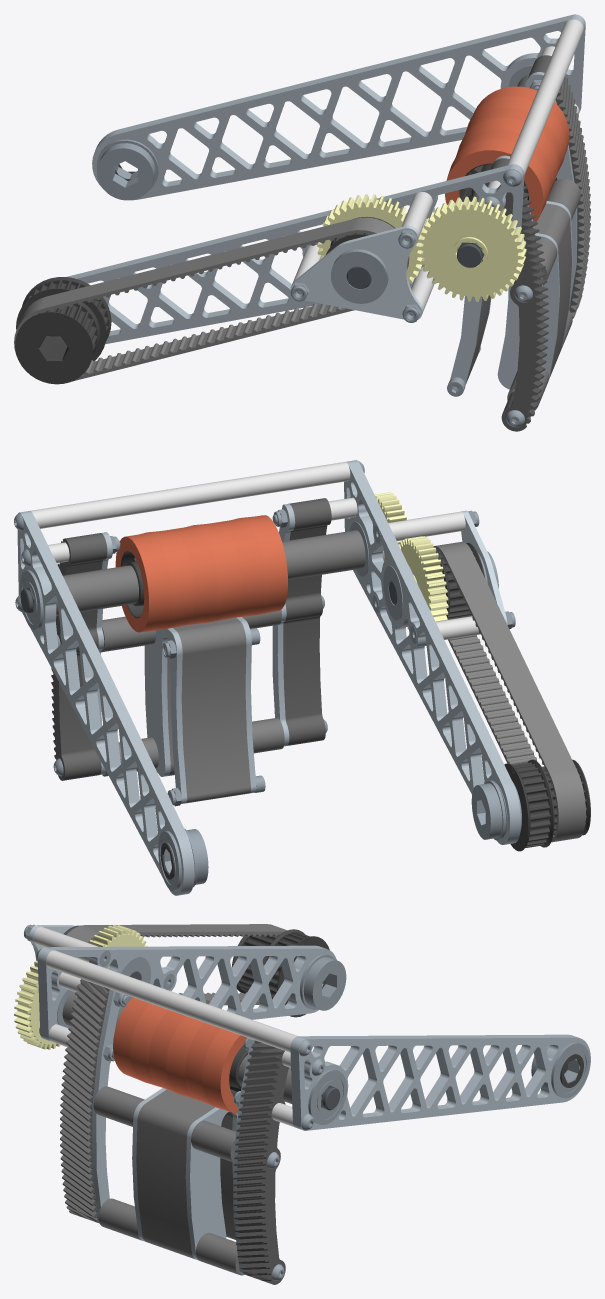
3 renders of one model, top to bottom at view 1: azimuth 30°, elevation 25°; view 2: azimuth 150°, elevation 25°; view 3: azimuth 270°, elevation 25°, orthographic. The views are drawn at different scales.
Visible parts, largest first — view 1: 0143_Right Hood Plate, 0105_Left Hood Plate, 40t 20dp Aluminum 1/2" Hex Bore Gear (217-2708) (×2), 90T HTD Belt, 2" OD 1/2" Hex ID Stealth Wheel 40A (am-3155) (×3), 0108_Hood Sector Gear Left, 24T Custom Pulley, 0137_Invert Gear Plate, 0121_Hood Block Support Plate, 0113_Hood Sector Gear Right, 0131_Hood Tierod, 0120_Hood Middle Block (+7 smaller); view 2: 2" OD 1/2" Hex ID Stealth Wheel 40A (am-3155) (×3), 0143_Right Hood Plate, 0105_Left Hood Plate, 90T HTD Belt, 0120_Hood Middle Block, 0108_Hood Sector Gear Left, 0131_Hood Tierod, 0140_Top Roller Shaft Spacer (×2), 0121_Hood Block Support Plate (×2), 0113_Hood Sector Gear Right, .5" Hex ID 1.125" OD Flanged Bearing (217-2734) (×4), 40t 20dp Aluminum 1/2" Hex Bore Gear (217-2708) (×2) (+7 smaller); view 3: 0143_Right Hood Plate, 0105_Left Hood Plate, 2" OD 1/2" Hex ID Stealth Wheel 40A (am-3155) (×3), 0113_Hood Sector Gear Right, 0120_Hood Middle Block, 0108_Hood Sector Gear Left, 0132_Hood Block Standoff (×4), 0131_Hood Tierod, .5" Hex ID 1.125" OD Flanged Bearing (217-2734) (×3), 0121_Hood Block Support Plate (×2), 0111_Rack Support Plate (×2), 40t 20dp Aluminum 1/2" Hex Bore Gear (217-2708) (×2) (+5 smaller).
Boxes of the visible parts, x1,y1,x2,y2 form: 0143_Right Hood Plate: (92, 14, 585, 200); 0105_Left Hood Plate: (67, 164, 524, 344); 40t 20dp Aluminum 1/2" Hex Bore Gear (217-2708) (×2): (317, 194, 526, 301); 90T HTD Belt: (14, 217, 409, 381); 2" OD 1/2" Hex ID Stealth Wheel 40A (am-3155) (×3): (445, 86, 569, 221); 0108_Hood Sector Gear Left: (485, 158, 548, 431); 24T Custom Pulley: (15, 296, 100, 384); 0137_Invert Gear Plate: (290, 225, 423, 319); 0121_Hood Block Support Plate: (450, 233, 559, 389); 0113_Hood Sector Gear Right: (528, 55, 590, 318); 0131_Hood Tierod: (507, 19, 583, 175); 0120_Hood Middle Block: (466, 203, 571, 383); 2" OD 1/2" Hex ID Stealth Wheel 40A (am-3155) (×3): (115, 515, 287, 632); 0143_Right Hood Plate: (17, 511, 194, 895); 0105_Left Hood Plate: (344, 460, 520, 844); 90T HTD Belt: (433, 541, 585, 842); 0120_Hood Middle Block: (167, 617, 250, 803); 0108_Hood Sector Gear Left: (283, 498, 331, 745); 0131_Hood Tierod: (30, 462, 350, 528); 0140_Top Roller Shaft Spacer (×2): (56, 530, 365, 615); 0121_Hood Block Support Plate (×2): (144, 617, 256, 803); 0113_Hood Sector Gear Right: (51, 533, 107, 780); .5" Hex ID 1.125" OD Flanged Bearing (217-2734) (×4): (20, 570, 506, 890); 40t 20dp Aluminum 1/2" Hex Bore Gear (217-2708) (×2): (374, 492, 448, 629); 0143_Right Hood Plate: (290, 1034, 590, 1130); 0105_Left Hood Plate: (37, 945, 336, 1041); 2" OD 1/2" Hex ID Stealth Wheel 40A (am-3155) (×3): (113, 997, 248, 1113); 0113_Hood Sector Gear Right: (233, 1040, 289, 1284); 0120_Hood Middle Block: (136, 1089, 235, 1259); 0108_Hood Sector Gear Left: (60, 979, 109, 1222); 0132_Hood Block Standoff (×4): (93, 1086, 244, 1275); 0131_Hood Tierod: (46, 950, 298, 1052); .5" Hex ID 1.125" OD Flanged Bearing (217-2734) (×3): (300, 954, 589, 1124); 0121_Hood Block Support Plate (×2): (132, 1088, 237, 1260); 0111_Rack Support Plate (×2): (92, 989, 254, 1273); 40t 20dp Aluminum 1/2" Hex Bore Gear (217-2708) (×2): (14, 925, 147, 1049).
Bounding box in the file's own units: 0.3346 × 0.159 × 0.3139.
